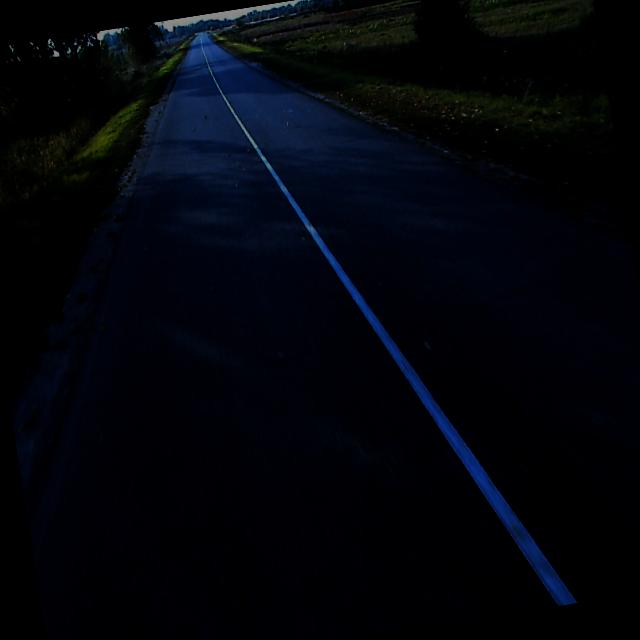road: (26, 32, 640, 640)
